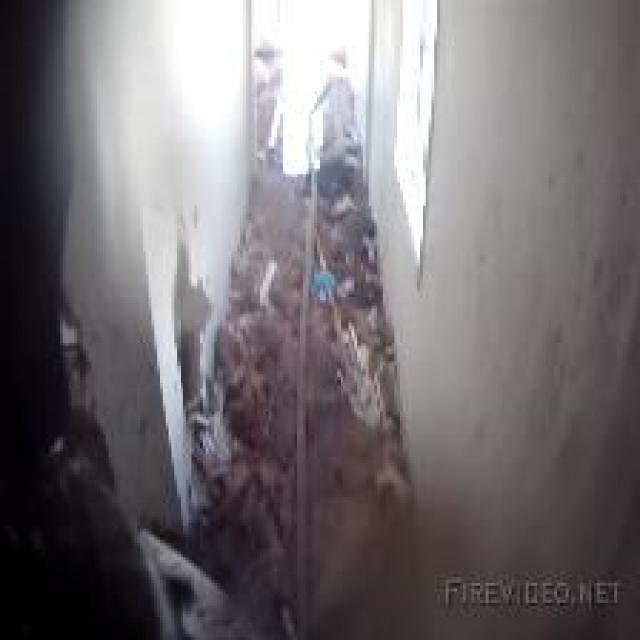other: (380, 12, 445, 274)
